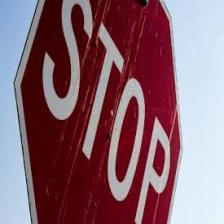Stop: (10, 1, 184, 224)
